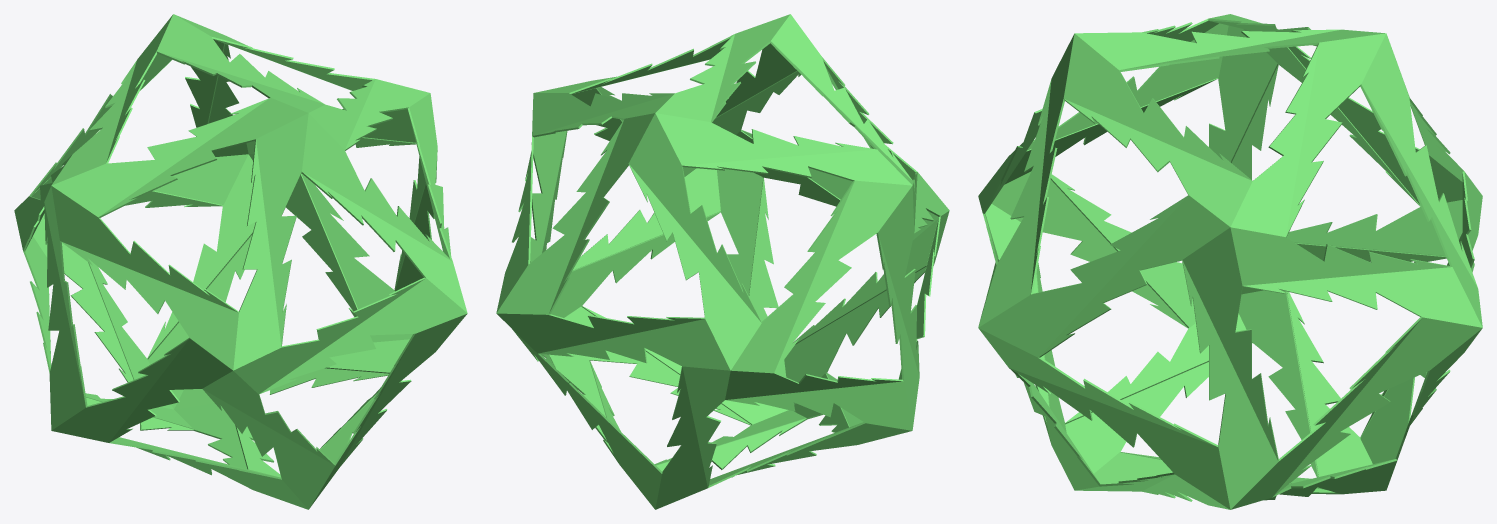
The model's file is Icosahedron2.glb.
3 renders of one model, left to right at view 1: azimuth 30°, elevation 25°; view 2: azimuth 150°, elevation 25°; view 3: azimuth 270°, elevation 25°, orthographic. The views are drawn at different scales.
Visible parts, largest first — view 1: root; view 2: root; view 3: root.
Part boxes in pixels (<box>): root: <box>14,14,467,509</box>; root: <box>496,14,949,509</box>; root: <box>978,14,1482,509</box>.
Size of the model in its own units: 4.85 by 4.85 by 4.85.
